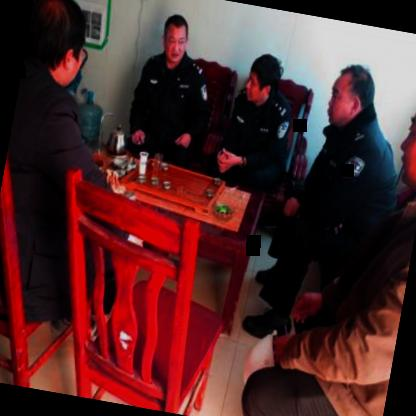head: (18, 0, 100, 95), (323, 61, 380, 138), (391, 67, 416, 200), (238, 47, 286, 112), (152, 11, 196, 74)
